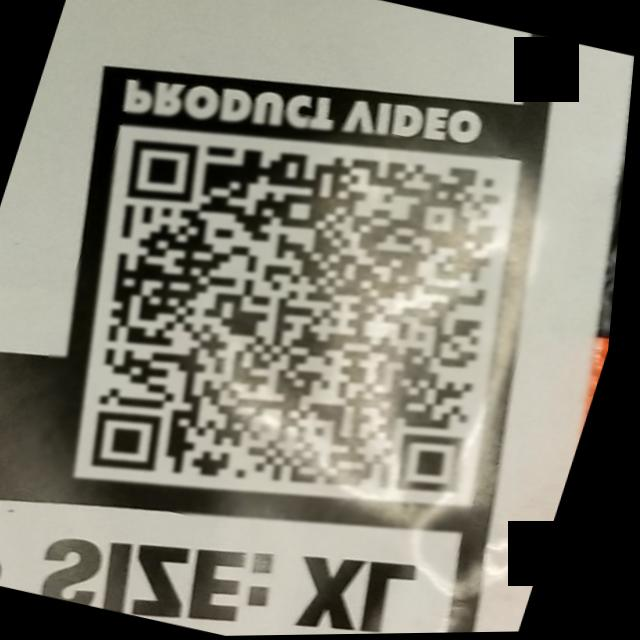QR_CODE: (11, 73, 587, 580)
